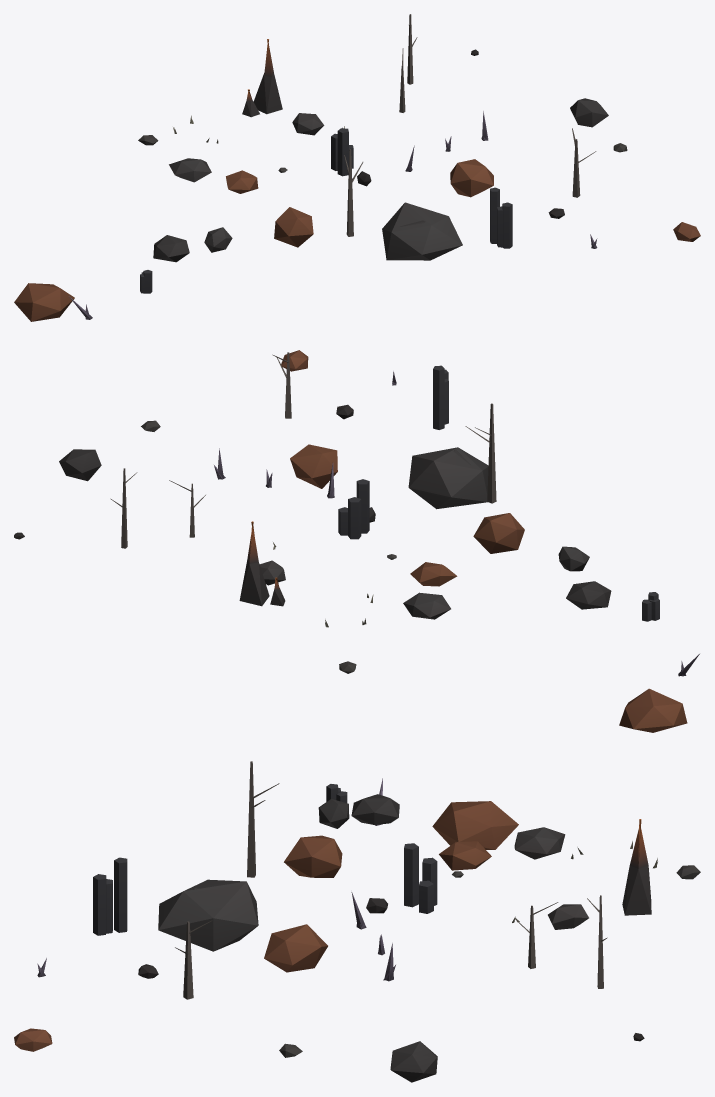
Rendered from ash_land_scatter_c13_29_lod1.glb.
3 views of the same model, one above another, from view 1: azimuth 30°, elevation 25°; view 2: azimuth 150°, elevation 25°; view 3: azimuth 270°, elevation 25° (orthographic). The views are drawn at different scales.
Visible parts, largest first — view 1: ash_land_scatter_c13_29_lod1; view 2: ash_land_scatter_c13_29_lod1; view 3: ash_land_scatter_c13_29_lod1.
Boxes of the visible parts, bbox=[...] form: ash_land_scatter_c13_29_lod1: bbox=[14, 14, 700, 321]; ash_land_scatter_c13_29_lod1: bbox=[14, 350, 699, 732]; ash_land_scatter_c13_29_lod1: bbox=[14, 761, 700, 1082].
Size of the model in its own units: 59.06 by 17.16 by 46.89.
